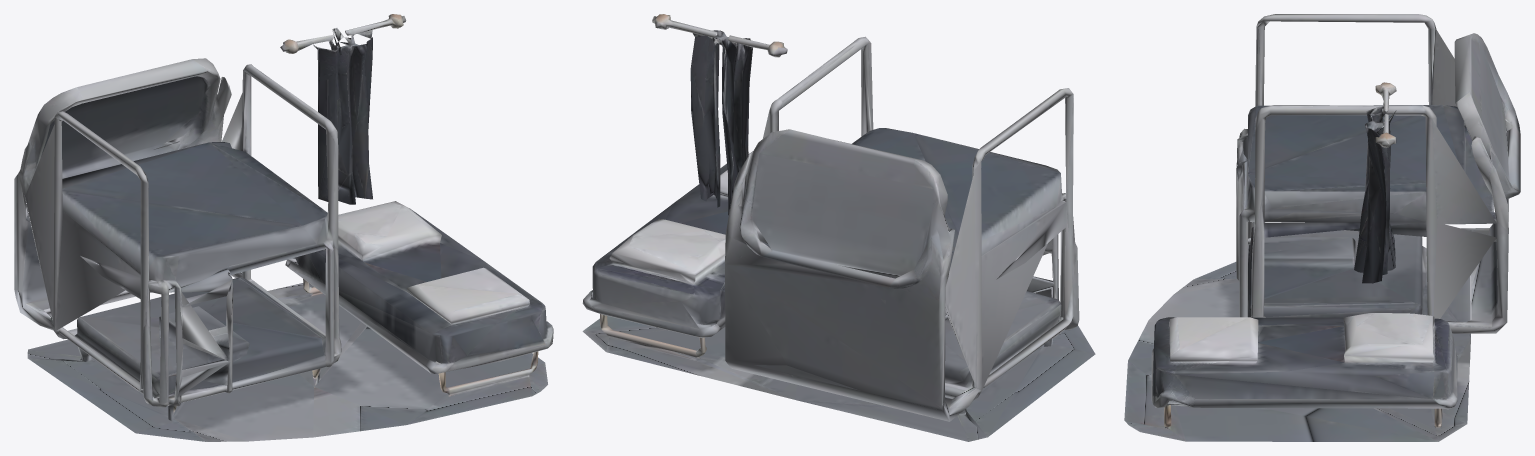
3 views of the same model, side by side, from view 1: azimuth 30°, elevation 25°; view 2: azimuth 150°, elevation 25°; view 3: azimuth 270°, elevation 25° (orthographic). The views are drawn at different scales.
Bounding box in the file's own units: 1.9 × 1.35 × 1.71.
1 material, 1 textured.
